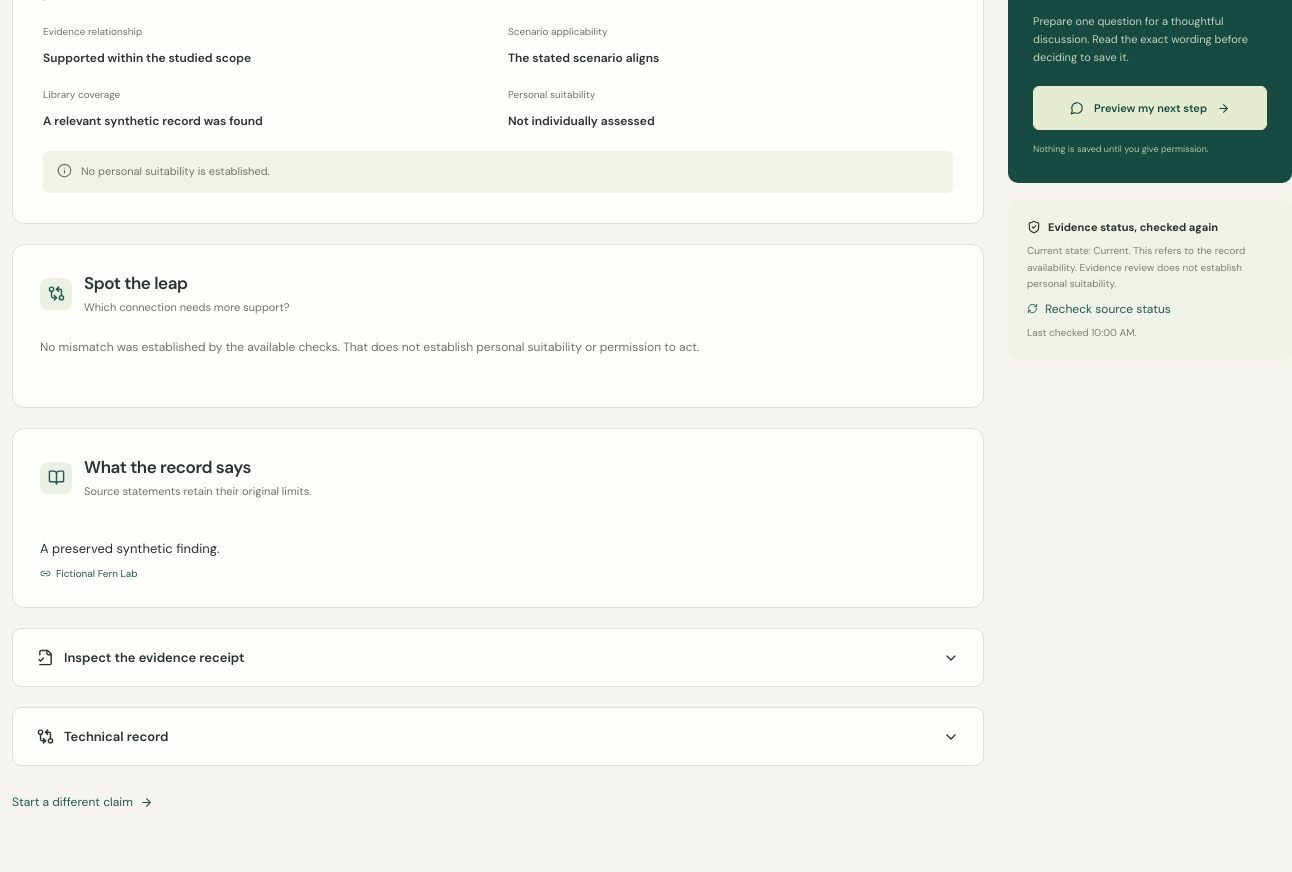
Test: Explicit save consent and current evidence boundaries › preserves the live receipt label with deterministic_library_rules alignment
(page scrolled)
Step 1. Click the heading "Inspect the evidence receipt" → (154, 658), box x1=37 y1=649 x2=959 y2=666
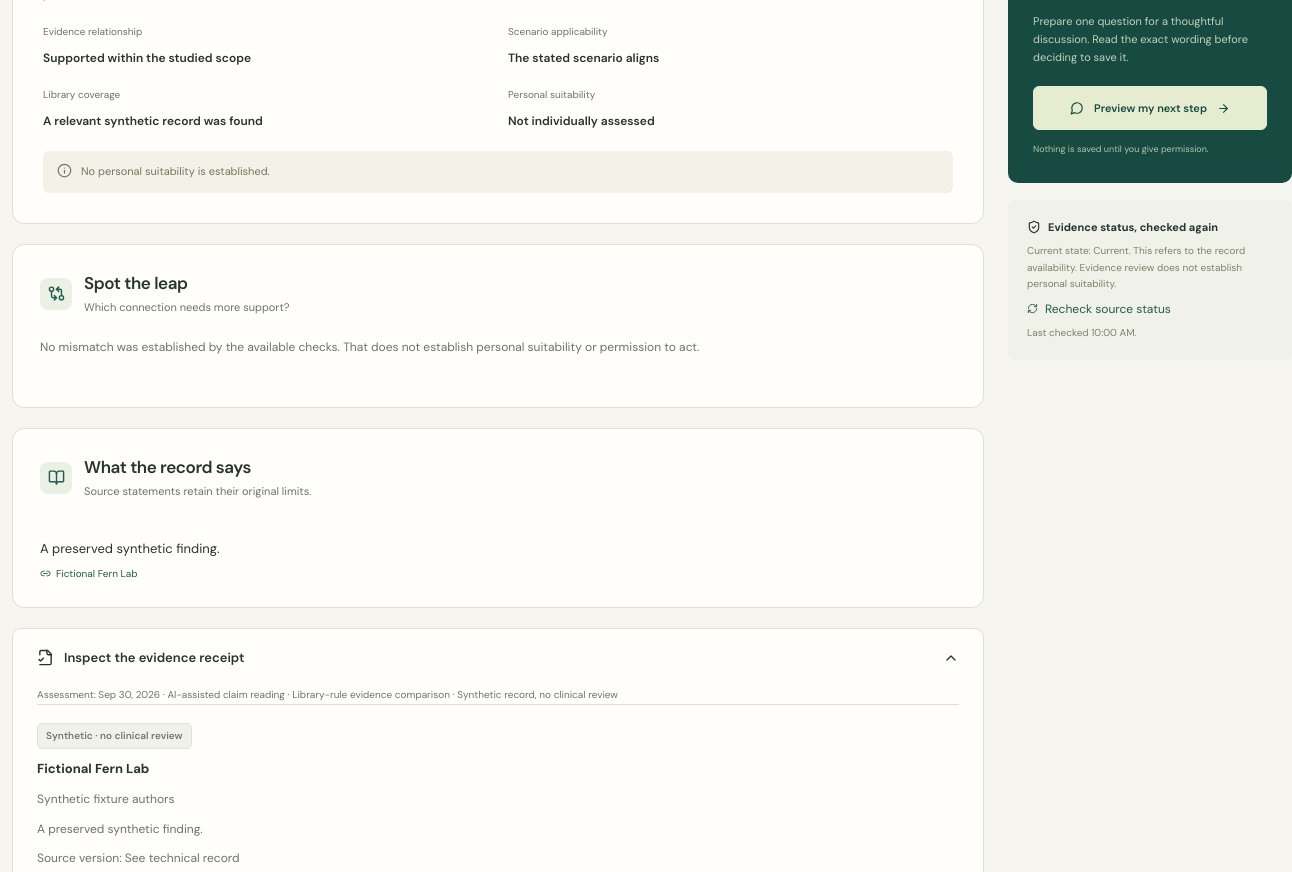
Expected: the text "AI-assisted claim reading" is shown, x1=167 y1=688 x2=285 y2=701
Expected: the text "Library-rule evidence comparison" is shown, x1=292 y1=688 x2=450 y2=701
